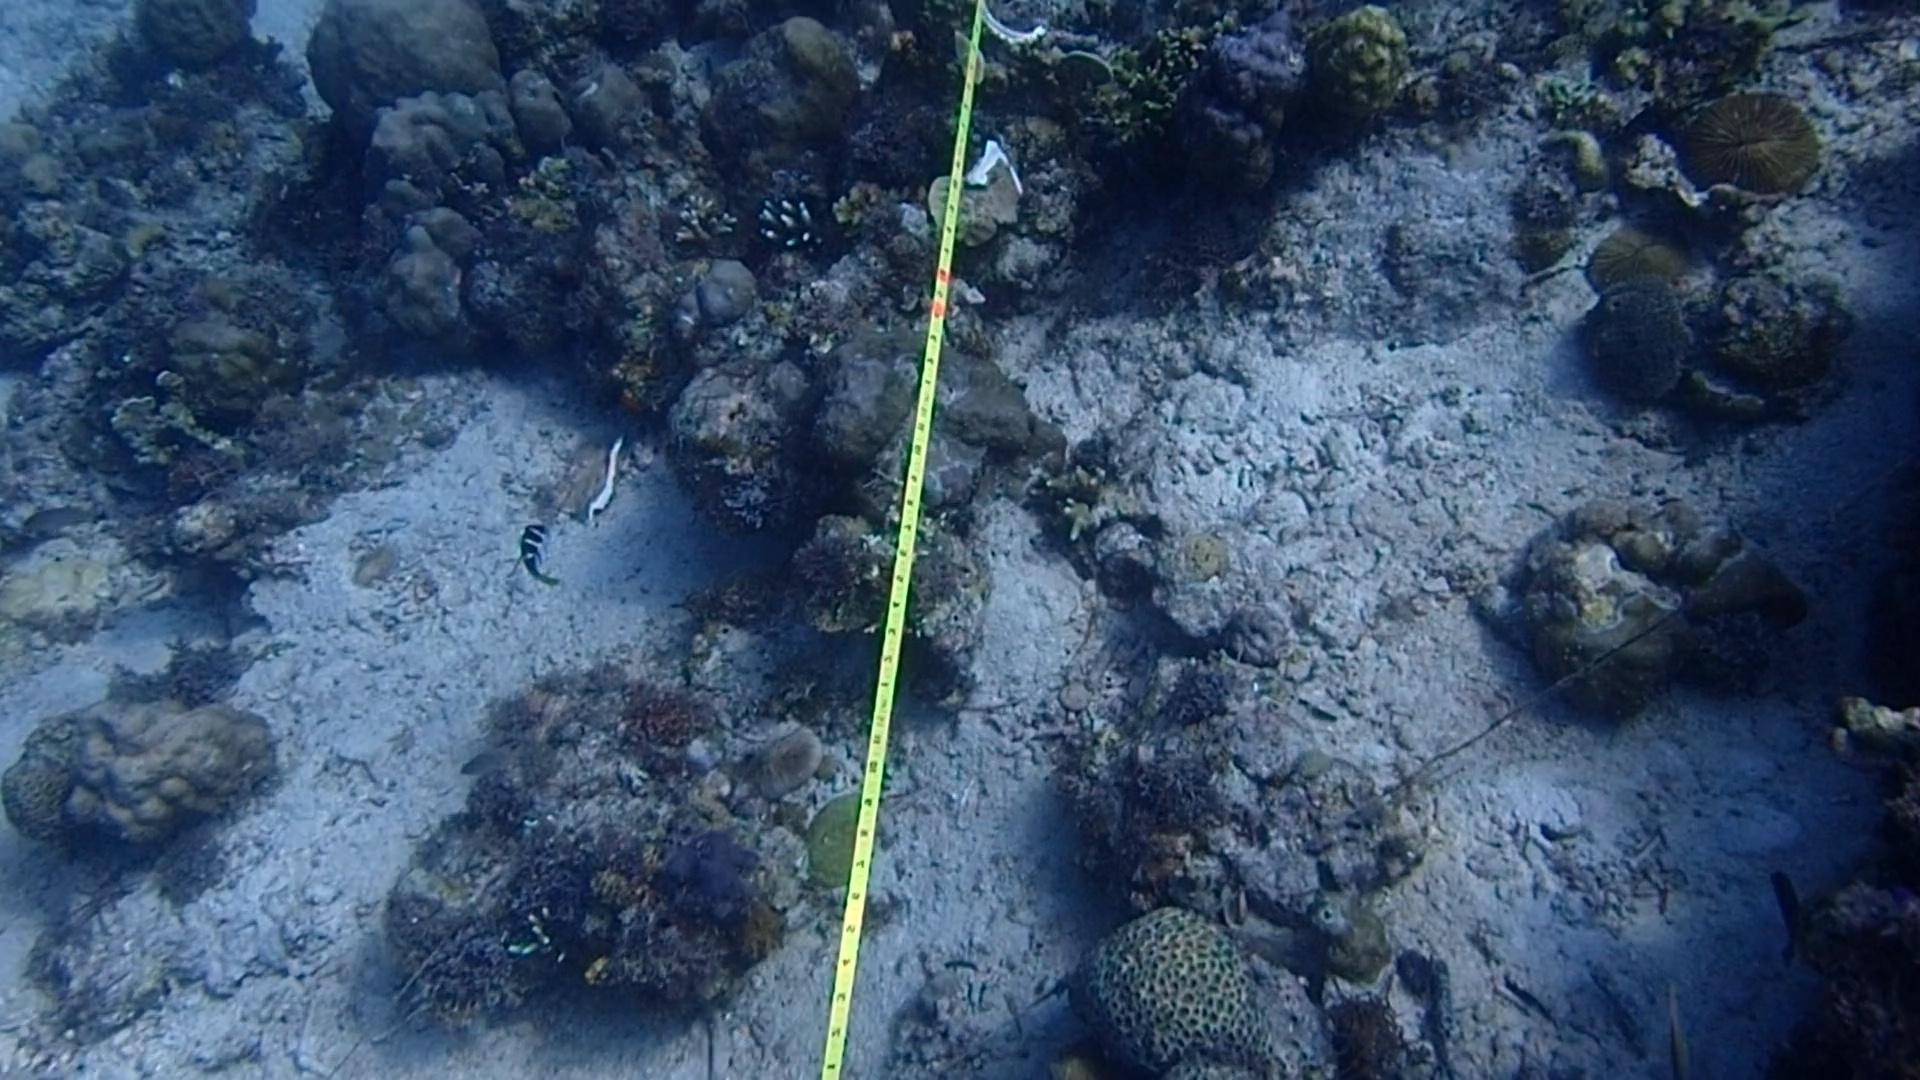Striped Fish: (512, 518, 570, 605)
